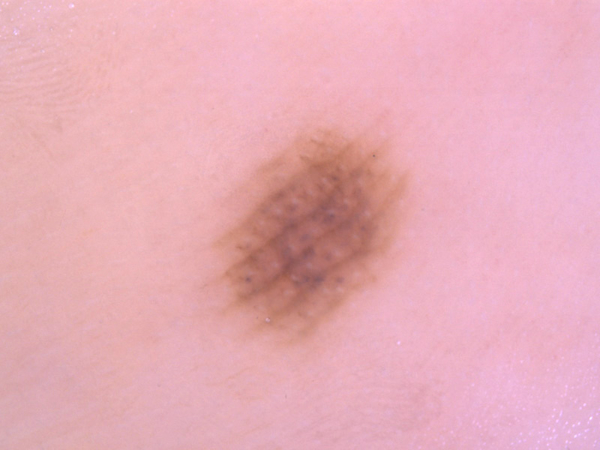Detected Lesion: (201, 116, 414, 353)
